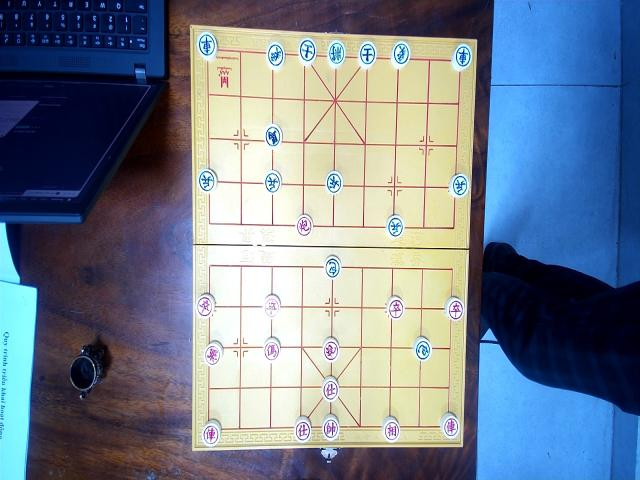piece: (196, 31, 218, 60), (451, 42, 473, 70), (448, 171, 469, 199), (439, 411, 459, 439), (326, 39, 346, 67), (202, 340, 222, 367), (390, 41, 410, 68), (298, 36, 317, 64), (201, 420, 221, 446), (412, 336, 432, 362), (382, 415, 401, 442), (266, 42, 284, 70), (444, 296, 464, 321), (294, 416, 312, 443), (358, 41, 376, 68), (322, 415, 340, 441), (196, 292, 214, 318), (322, 337, 340, 363), (198, 167, 216, 192), (324, 170, 342, 195), (322, 376, 339, 402), (386, 214, 404, 238), (386, 295, 404, 319), (264, 124, 281, 149), (324, 254, 341, 278), (264, 336, 280, 361), (296, 214, 312, 238), (264, 294, 280, 317), (264, 170, 280, 193)
